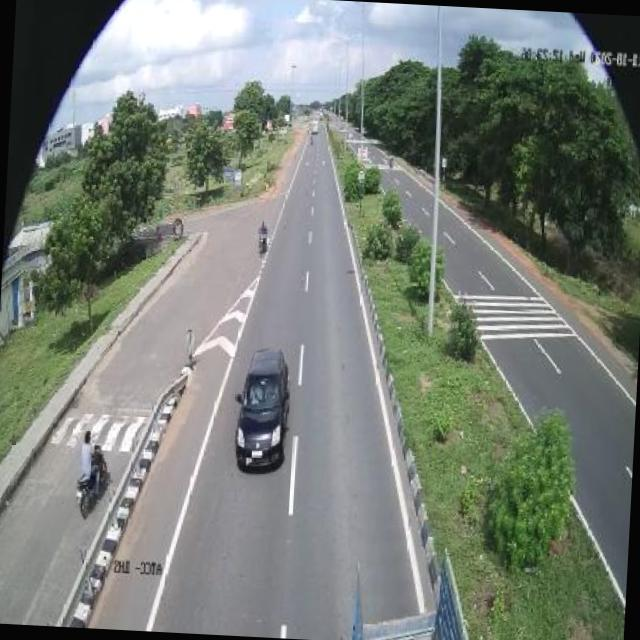car: (232, 342, 291, 476)
